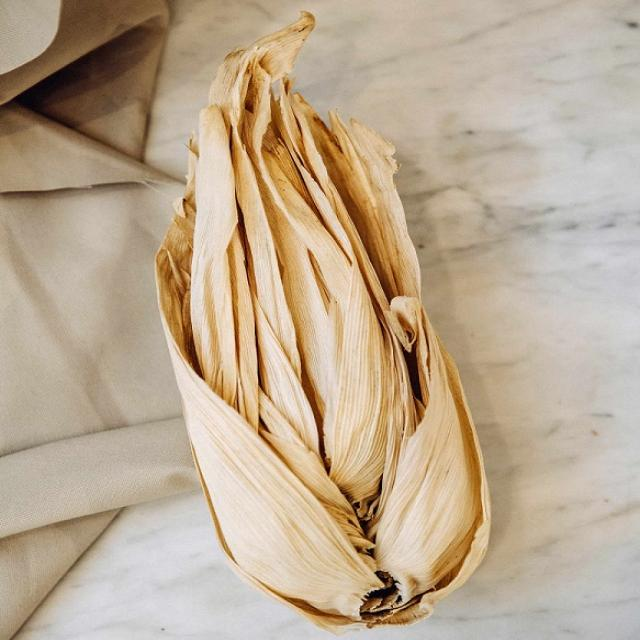Organik: (151, 6, 501, 625)
